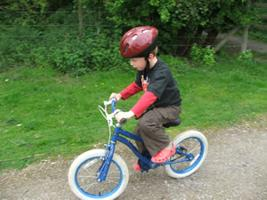person: (110, 27, 182, 172)
